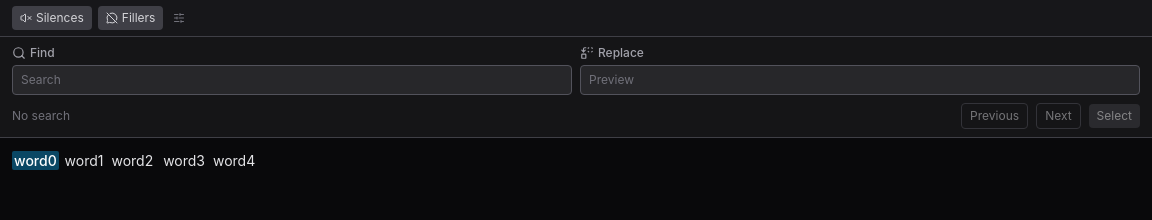
TranscriptEditor › should show selection toolbar when words are selected
Press the mouse on the button "word0" at (35,160), box [12,151,59,170]
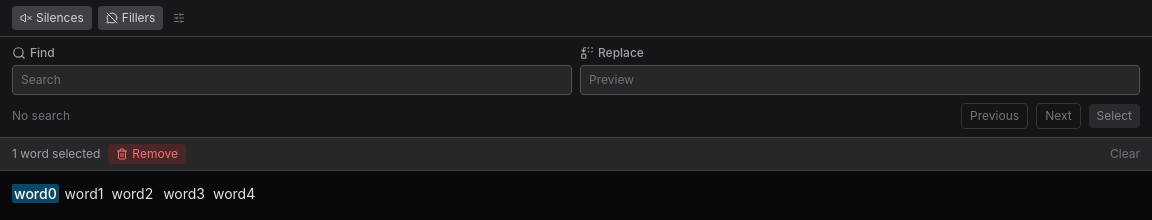
Hover over the button "word2" at (132,194), box [110,184,155,203]
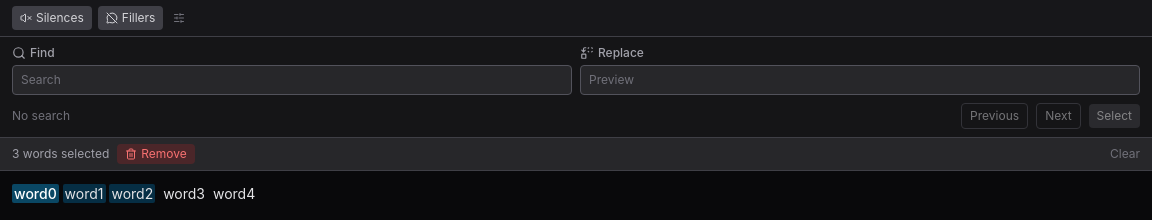
Expected: the button "Remove" is shown, [117,144,195,164]
Expected: the text "3 words selected" is shown, [12,146,109,162]
